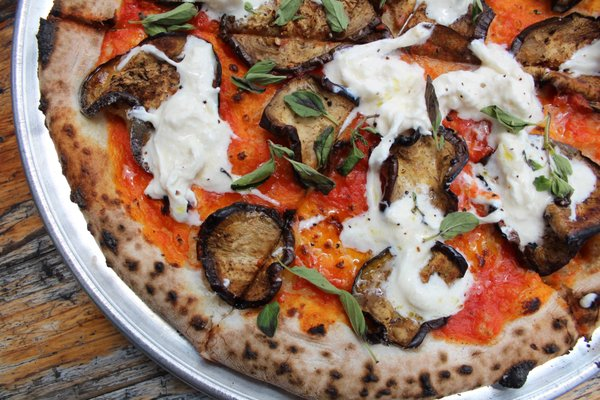curry: (2, 3, 510, 395)
sandwich: (45, 0, 598, 392)
